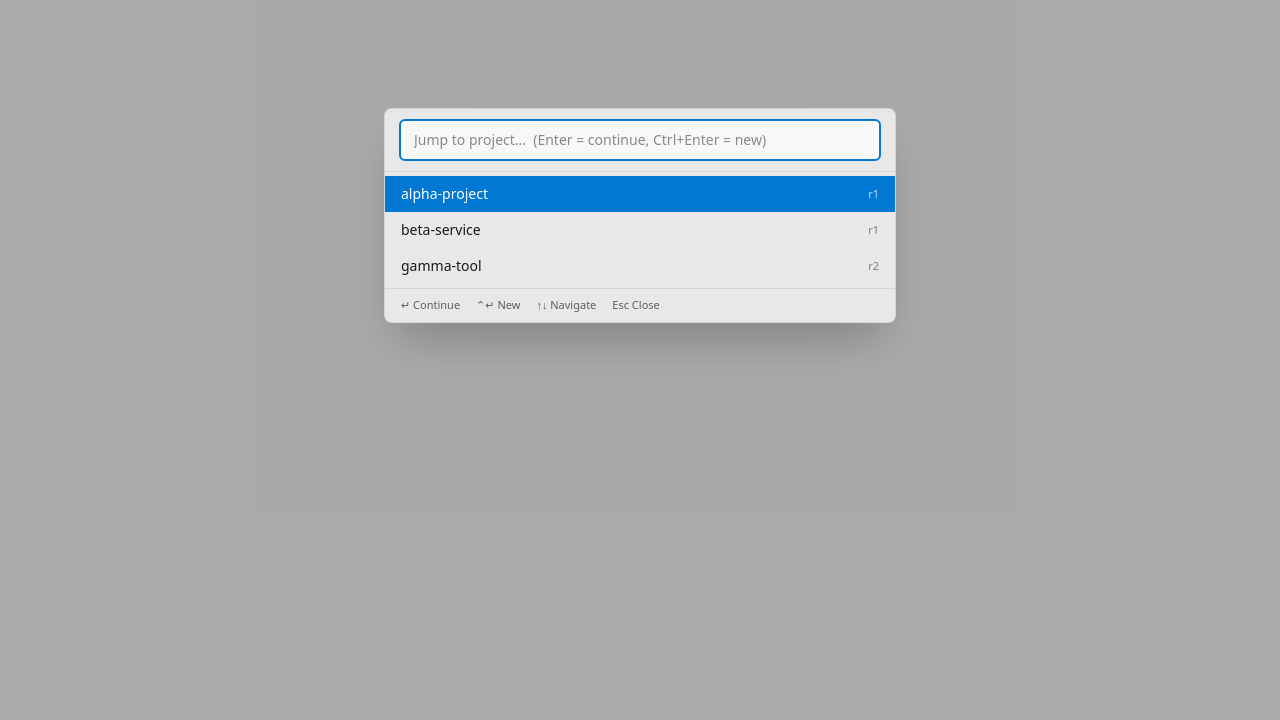
it: CommandPalette › shows no results message when no projects match
Step 1. Type "zzz" into the field with placeholder "Jump to project… (Enter = continue, Ctrl+Enter = new)" → (640, 140), box 401,121 -> 879,159
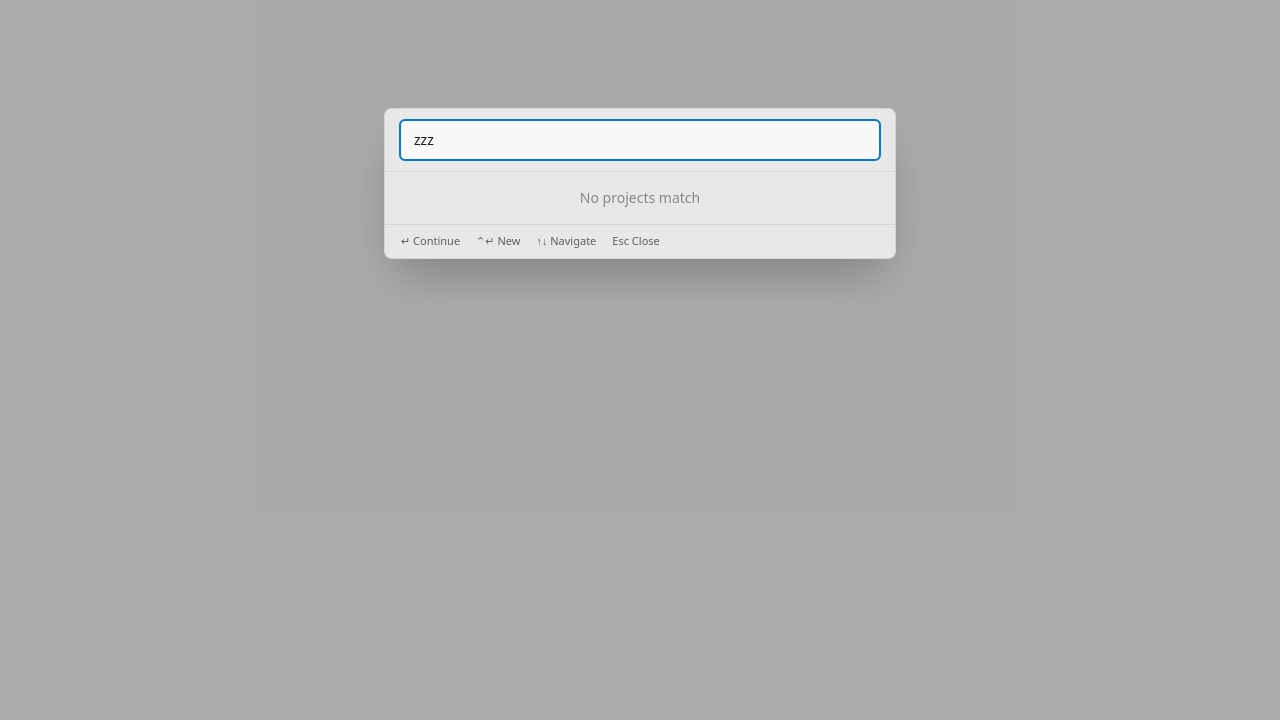
expect the option "alpha-project" is gone: met
